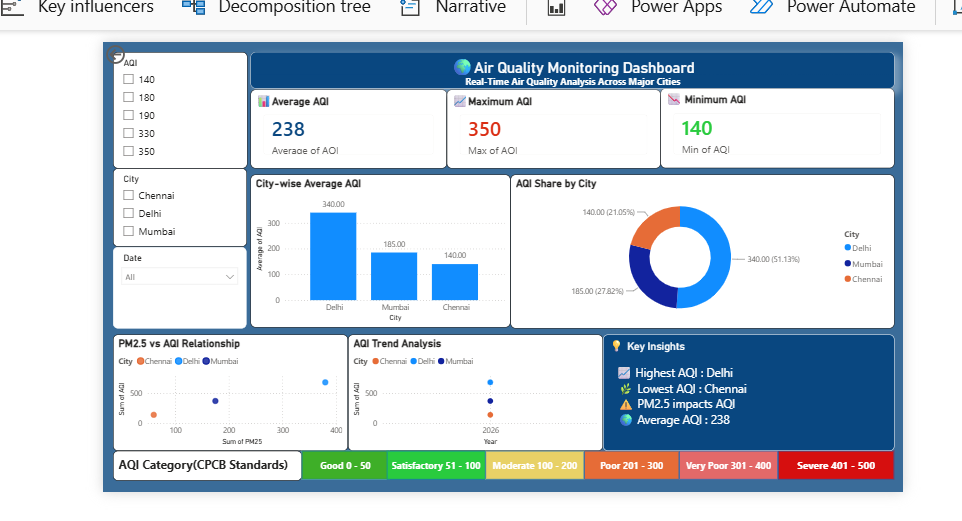

The page's visual inventory and layout, read from the dashboard file:
{"tool":"powerbi","page":{"name":"Page 1","canvas":[1280,720],"ordinal":0},"visuals":[{"type":"clusteredColumnChart","title":"City-wise Average AQI","fields":{"Y":["Avg(airqualitydb airquality.AQI)"],"Category":["airqualitydb airquality.City"]},"box":[235,212.5,416.2,245],"z":0},{"type":"lineChart","title":"AQI Trend Analysis","fields":{"Category":["airqualitydb airquality.Date.Variation.Date Hierarchy.Year","airqualitydb airquality.Date.Variation.Date Hierarchy.Quarter","airqualitydb airquality.Date.Variation.Date Hierarchy.Month","airqualitydb airquality.Date.Variation.Date Hierarchy.Day"],"Y":["Sum(airqualitydb airquality.AQI)"],"Series":["airqualitydb airquality.City"]},"box":[392,468,408,186],"z":1000},{"type":"cardVisual","title":"📊Average AQI","fields":{"Data":["Avg(airqualitydb airquality.AQI)"]},"box":[236,76,314,126],"z":2000},{"type":"cardVisual","title":"📉 Minimum AQI","fields":{"Data":["Min(airqualitydb airquality.AQI)"]},"box":[892,74,374,128],"z":3000},{"type":"cardVisual","title":"📈Maximum AQI","fields":{"Data":["Max(airqualitydb airquality.AQI)"]},"box":[550,76,342,126],"z":4000},{"type":"scatterChart","title":"\"PM2.5 vs AQI Correlation\"","fields":{"X":["airqualitydb airquality.PM25"],"Y":["airqualitydb airquality.AQI"],"Series":["airqualitydb airquality.City"]},"box":[16,468,376,186],"z":5000},{"type":"textbox","title":"🌍Air Quality Monitoring Dashboard","box":[236,16,1030,58],"z":6000},{"type":"donutChart","title":"AQI Share by City","fields":{"Y":["Avg(airqualitydb airquality.AQI)"],"Category":["airqualitydb airquality.City"]},"box":[652,212,614,246],"z":7000},{"type":"slicer","fields":{"Values":["airqualitydb airquality.AQI"]},"box":[16.2,16.2,215,186.2],"z":8000},{"type":"actionButton","box":[0,0,100,40],"z":9000},{"type":"slicer","fields":{"Values":["airqualitydb airquality.City"]},"box":[15.7,202.7,214.7,125.5],"z":10000},{"type":"slicer","fields":{"Values":["airqualitydb airquality.Date"]},"box":[16.2,327.5,213.8,130],"z":11000},{"type":"textbox","box":[16,654,302,48],"z":12000},{"type":"shape","title":"Good","box":[318,654,140,46],"z":13000},{"type":"shape","box":[454,654,158,46],"z":14000},{"type":"shape","box":[612,654,158,46],"z":15000},{"type":"shape","box":[770,654,152,46],"z":16000},{"type":"shape","box":[922,654,158,46],"z":17000},{"type":"shape","box":[1080,654,186,46],"z":18000},{"type":"textbox","title":"💡 Key Insights ","box":[800,468,466,186],"z":19000}]}

Visuals, with their boxes on the page's 1280x720 design canvas (x1, y1, x2, y2). These are canvas units, not pixel positions in the 962x521 screenshot, which may show the page scaled, cropped or inside an application window:
"City-wise Average AQI" clusteredColumnChart: bbox=[235, 212, 651, 458]
"AQI Trend Analysis" lineChart: bbox=[392, 468, 800, 654]
"📊Average AQI" cardVisual: bbox=[236, 76, 550, 202]
"📉 Minimum AQI" cardVisual: bbox=[892, 74, 1266, 202]
"📈Maximum AQI" cardVisual: bbox=[550, 76, 892, 202]
""PM2.5 vs AQI Correlation"" scatterChart: bbox=[16, 468, 392, 654]
"🌍Air Quality Monitoring Dashboard" textbox: bbox=[236, 16, 1266, 74]
"AQI Share by City" donutChart: bbox=[652, 212, 1266, 458]
slicer - airqualitydb airquality.AQI: bbox=[16, 16, 231, 202]
actionButton: bbox=[0, 0, 100, 40]
slicer - airqualitydb airquality.City: bbox=[16, 203, 230, 328]
slicer - airqualitydb airquality.Date: bbox=[16, 328, 230, 458]
textbox: bbox=[16, 654, 318, 702]
"Good" shape: bbox=[318, 654, 458, 700]
shape: bbox=[454, 654, 612, 700]
shape: bbox=[612, 654, 770, 700]
shape: bbox=[770, 654, 922, 700]
shape: bbox=[922, 654, 1080, 700]
shape: bbox=[1080, 654, 1266, 700]
"💡 Key Insights " textbox: bbox=[800, 468, 1266, 654]
